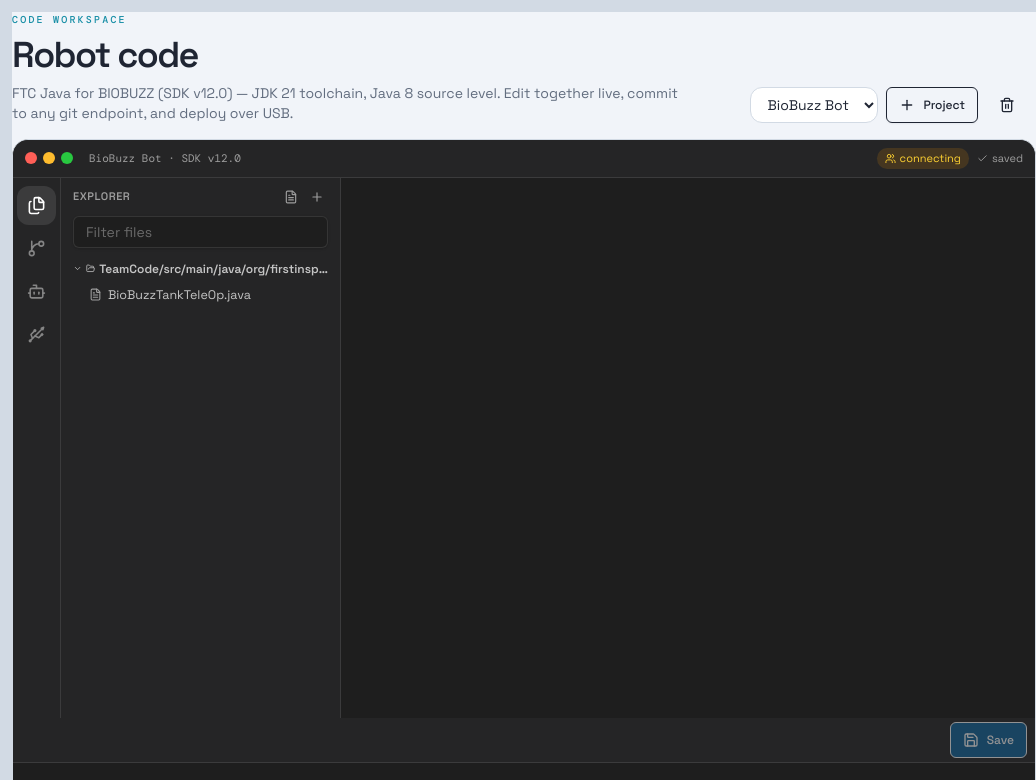
Test: code workspace › uploads straight from the dashboard without opening the hub site
The image size is (1036, 780).
Click the button with test id "code-side-deploy". click: (36,334)
box: top-left (17, 314), bottom-right (56, 354)
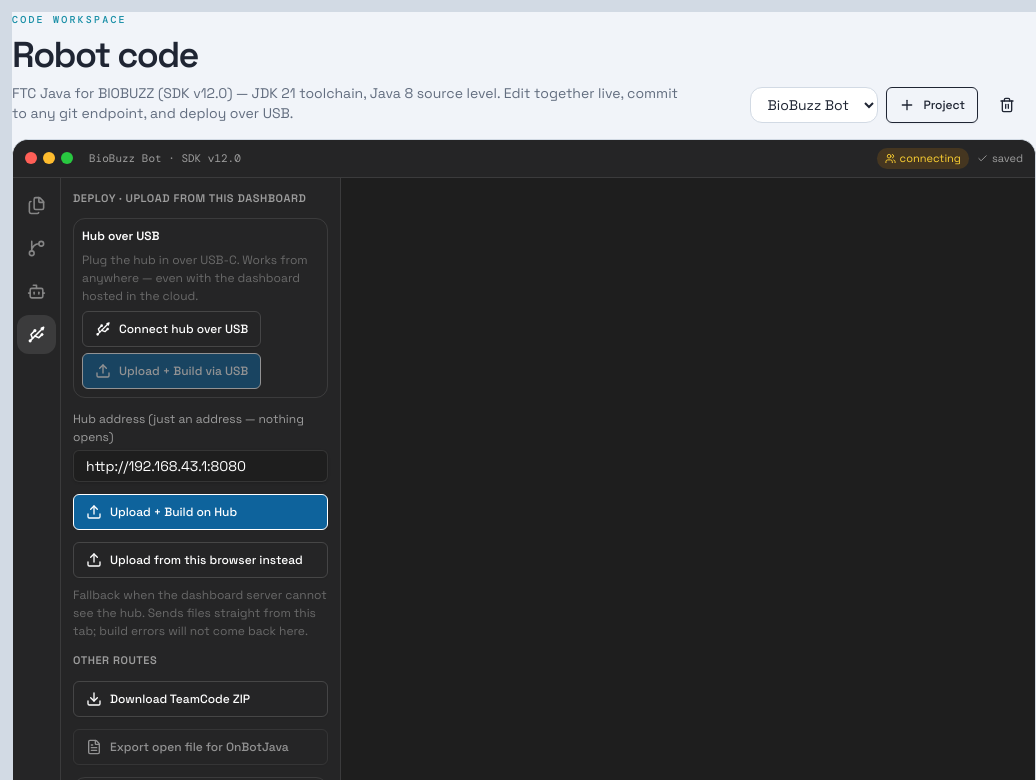
Expected: the button with test id "code-usb-connect" is shown, top-left (82, 311), bottom-right (261, 347)
Expected: the button with test id "code-deploy-usb" is shown, top-left (82, 353), bottom-right (261, 389)
Expected: the field with test id "code-hub-url" is shown, top-left (73, 450), bottom-right (328, 482)
